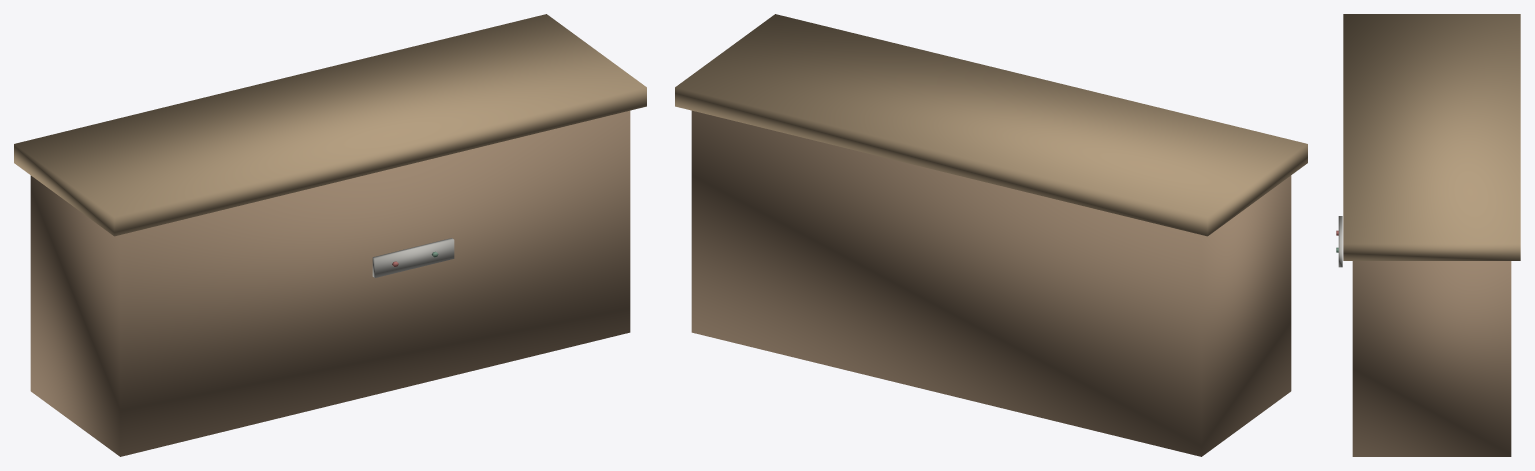
Rendered from bank_teller_counter__wide.glb.
The picture shows the model from 3 angles, left to right: view 1: azimuth 30°, elevation 25°; view 2: azimuth 150°, elevation 25°; view 3: azimuth 270°, elevation 25°; orthographic projection. The views are drawn at different scales.
Parts seen in each view (by area): view 1: world; view 2: world; view 3: world.
Boxes of the visible parts, x1,y1,x2,y2 form: world: (14,14,646,456); world: (675,14,1307,456); world: (1336,14,1520,456).
Size of the model in its own units: 2.33 by 1.03 by 0.791.
